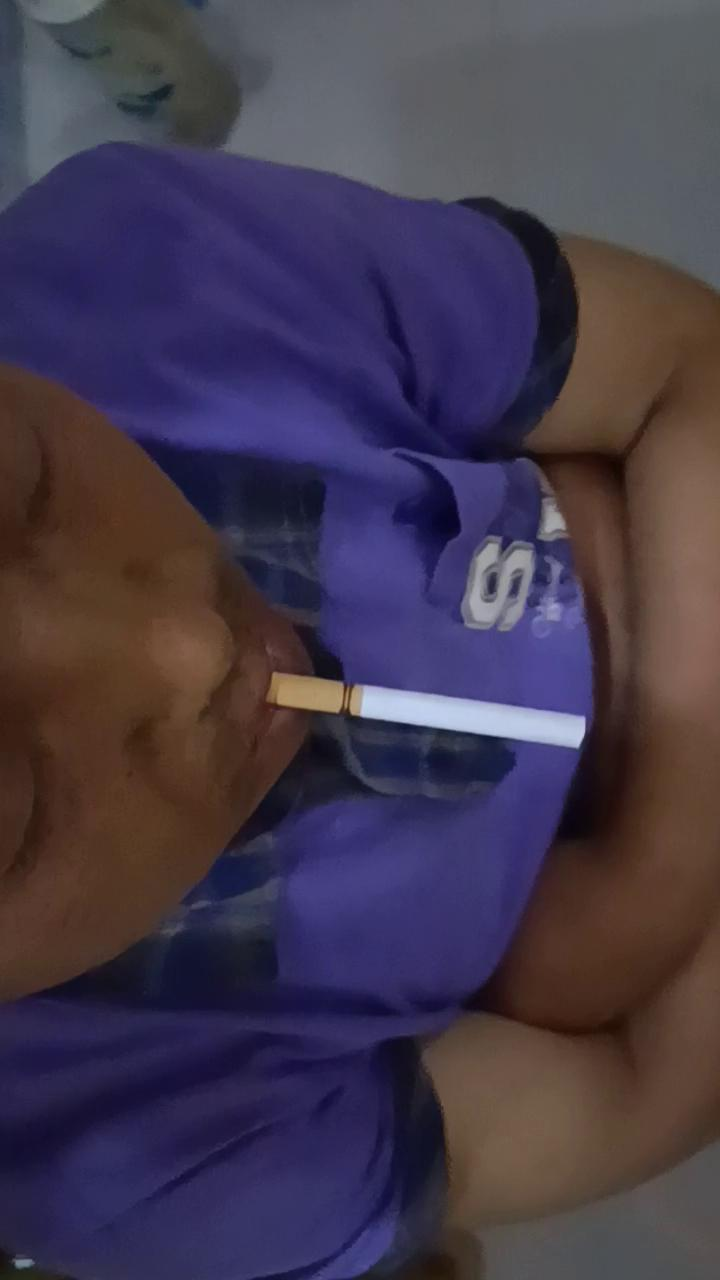smoke: (270, 674, 591, 750)
